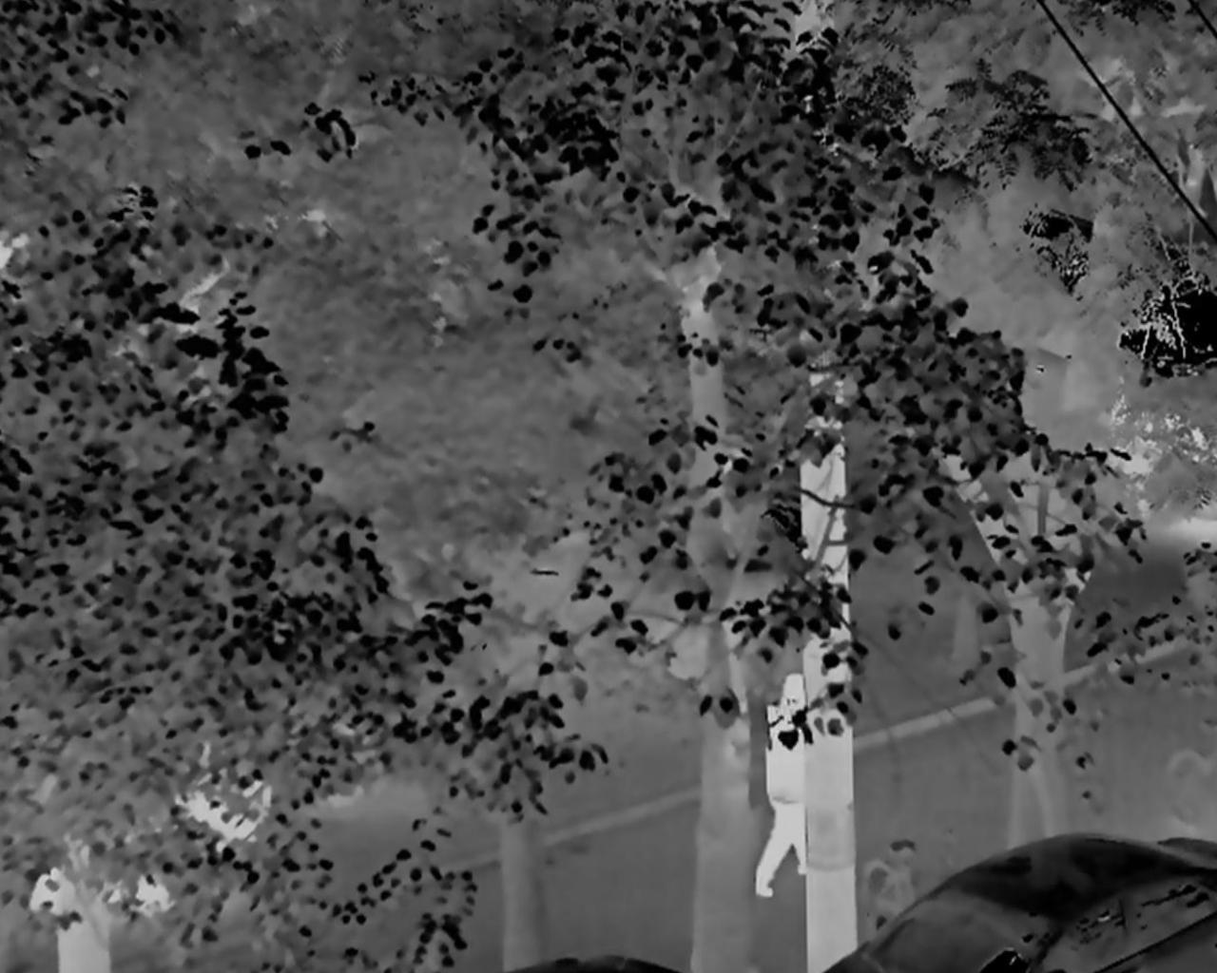person: (758, 672, 814, 913)
